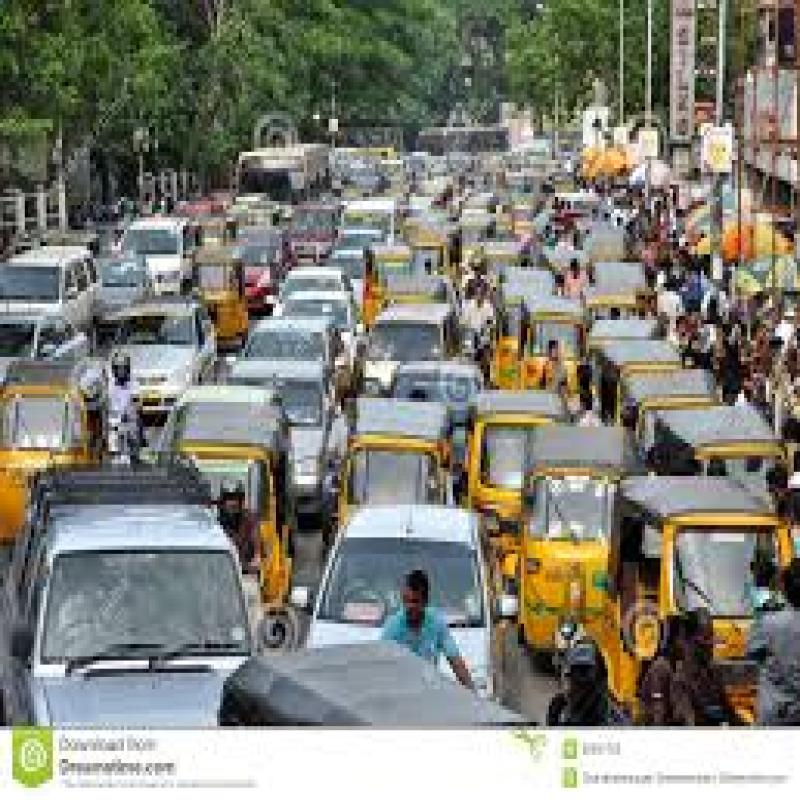auto: (608, 468, 772, 720), (518, 432, 629, 663), (201, 393, 317, 604), (472, 371, 565, 607), (343, 398, 460, 553), (516, 300, 599, 402)
car: (19, 439, 258, 750), (333, 484, 508, 691)
